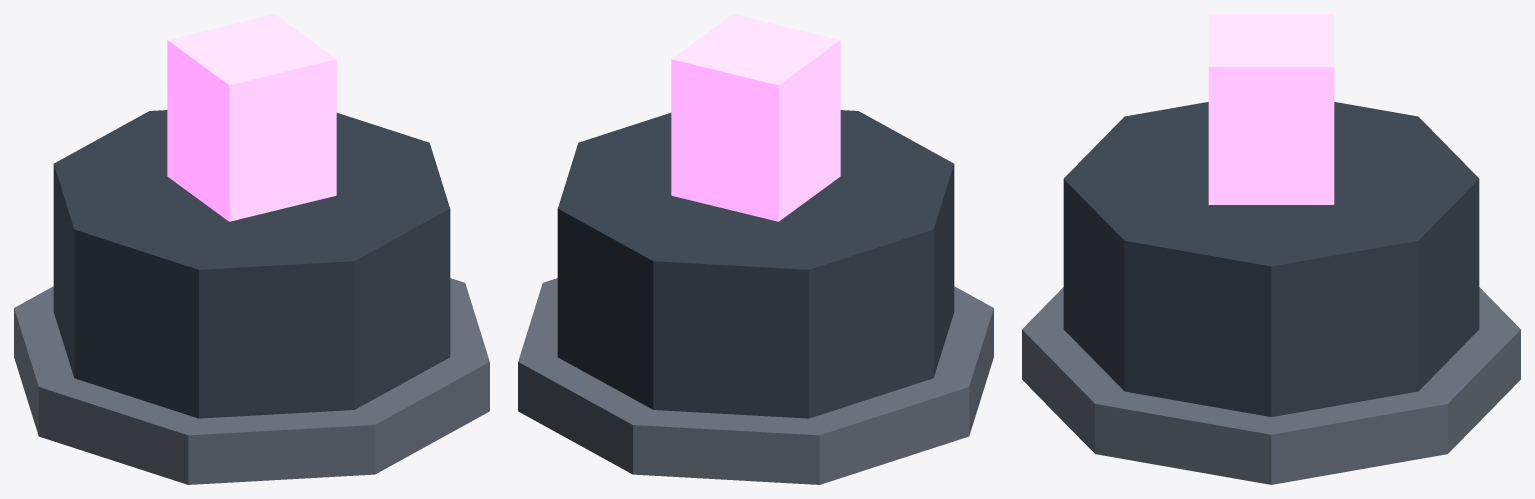
The model's file is prop_secret_cache.glb.
The picture shows the model from 3 angles, left to right: view 1: azimuth 30°, elevation 25°; view 2: azimuth 150°, elevation 25°; view 3: azimuth 270°, elevation 25°; orthographic projection.
Parts seen in each view (by area): view 1: Cache_Vault_Body, Cache_Base_Flange, Cache_Relic_Crystal; view 2: Cache_Vault_Body, Cache_Base_Flange, Cache_Relic_Crystal; view 3: Cache_Vault_Body, Cache_Base_Flange, Cache_Relic_Crystal.
Part boxes in pixels (x1,y1,x2,y2): Cache_Vault_Body: (53,110,450,418); Cache_Base_Flange: (14,278,489,484); Cache_Relic_Crystal: (167,14,336,221); Cache_Vault_Body: (557,110,954,418); Cache_Base_Flange: (518,278,993,484); Cache_Relic_Crystal: (671,14,840,221); Cache_Vault_Body: (1063,102,1479,416); Cache_Base_Flange: (1022,287,1520,484); Cache_Relic_Crystal: (1208,14,1334,204).
Size of the model in its own units: 1.8 by 1.35 by 1.8.
